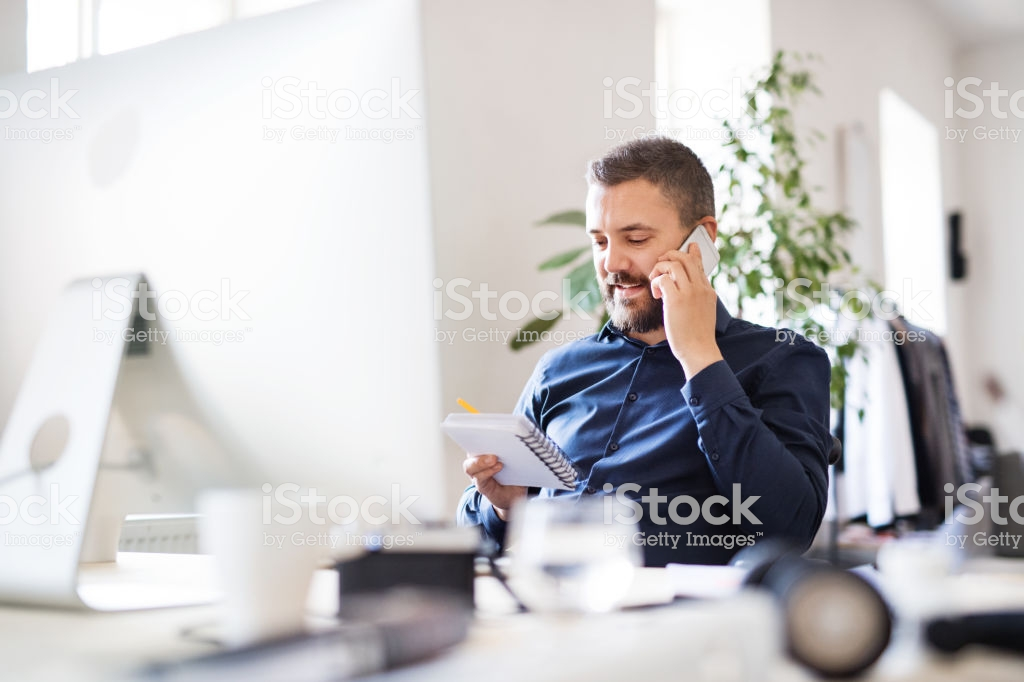phone: (671, 226, 721, 293)
talk: (584, 216, 725, 352)
